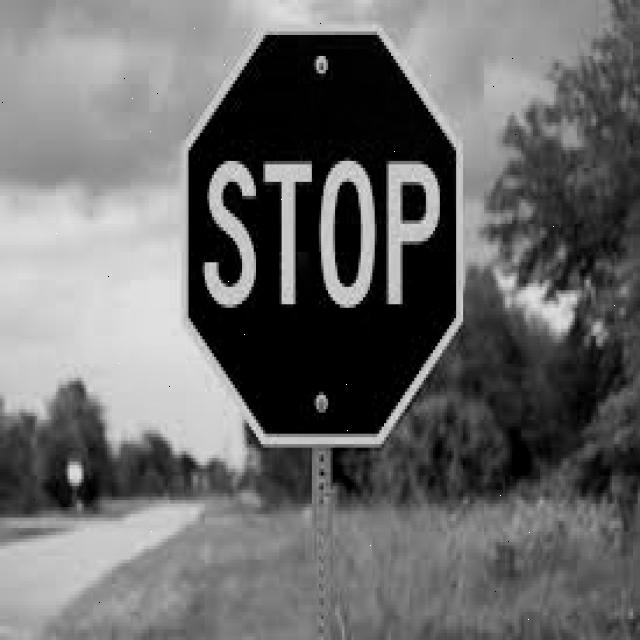stop sign: (182, 29, 465, 453)
